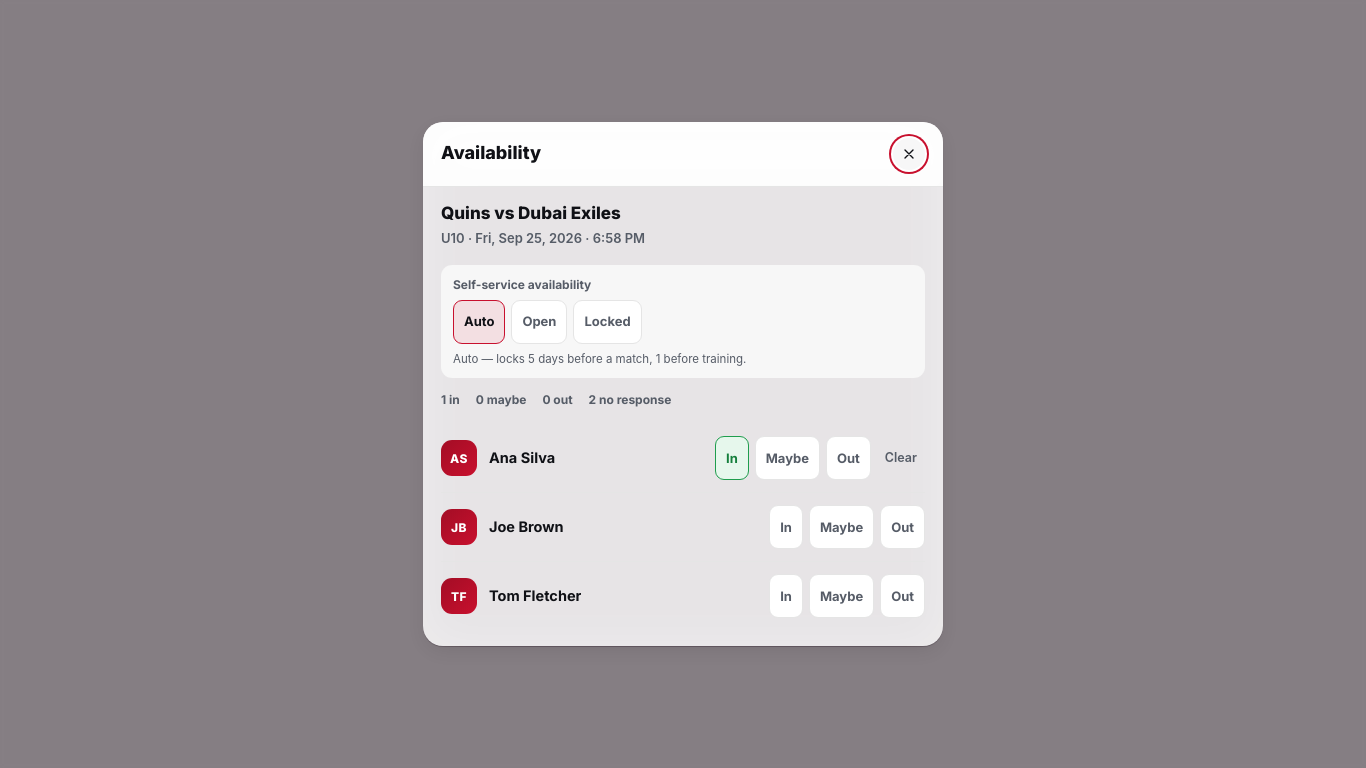
Test: Availability — coach/admin can override anyone › updates the clicked row to the new status as soon as the save succeeds, without waiting for realtime
Expected: the text "Ana Silva" is shown, [489,448,555,468]
Click the button "Maybe" in the row of "AS" at coordinates (787, 458), box [755,436,820,480]
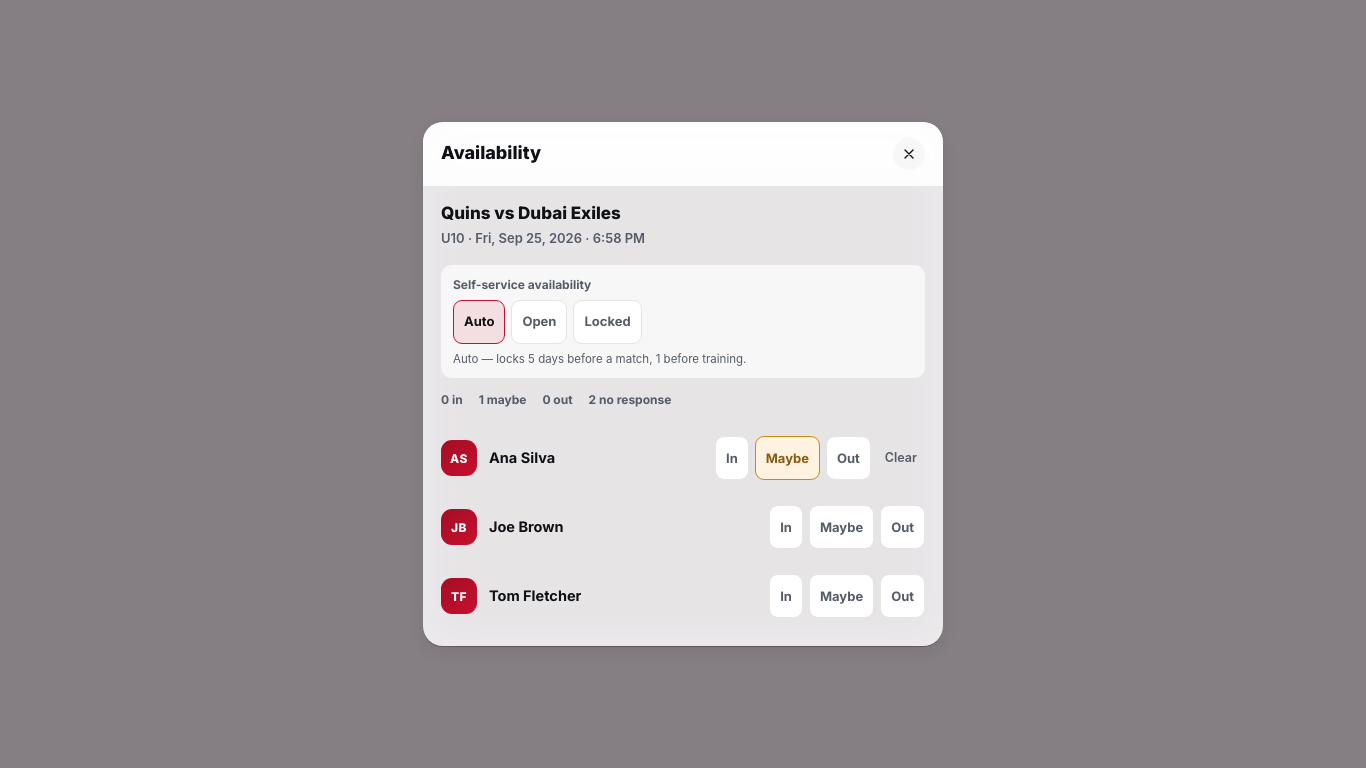
Now the text "1 maybe" is shown, box [479,392,526,408]
Now the text "0 in" is shown, box [441,392,463,408]
